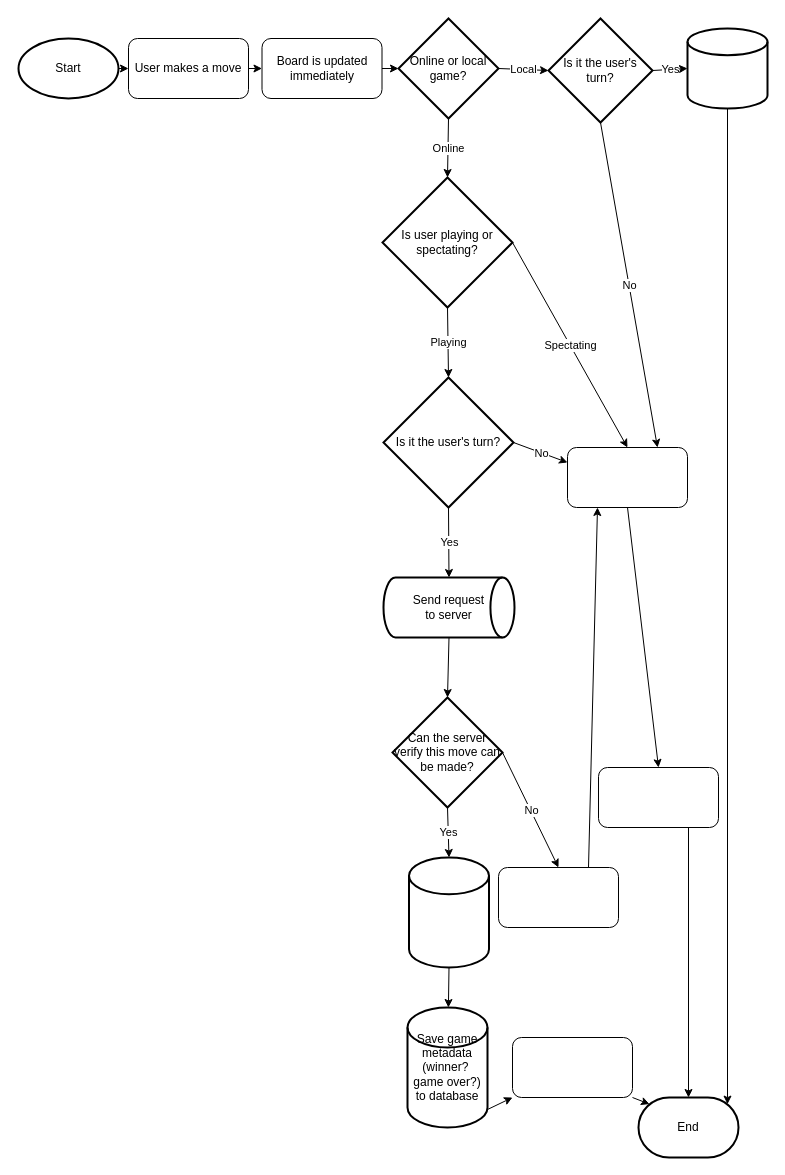
Image size: 785x1175. Some labels were removed from this diagram. The centre of each missing label's shape, as x and y in pixels:
Client reverts the board to state before the move was made: point 658,797
Deny attempt: point 627,477
Return response to client, so the client knows move is OK: point 572,1067
Save game state to local database: point 727,68
Save game state to remote database: point 449,912
Server responds with an error: point 558,897
